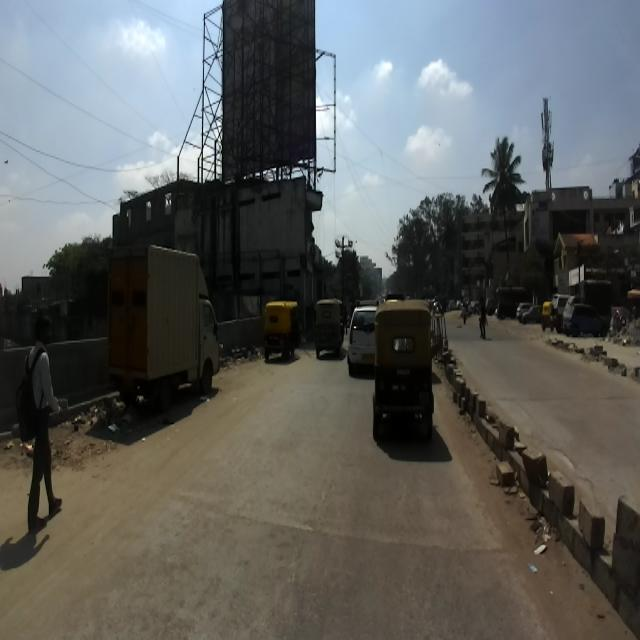auto ahead at: (370, 296, 438, 446), (260, 298, 298, 360)
car ahead at: (100, 243, 230, 417)
person ahead at: (18, 303, 66, 539)
stones ahead at: (496, 418, 559, 506), (570, 496, 615, 570)
